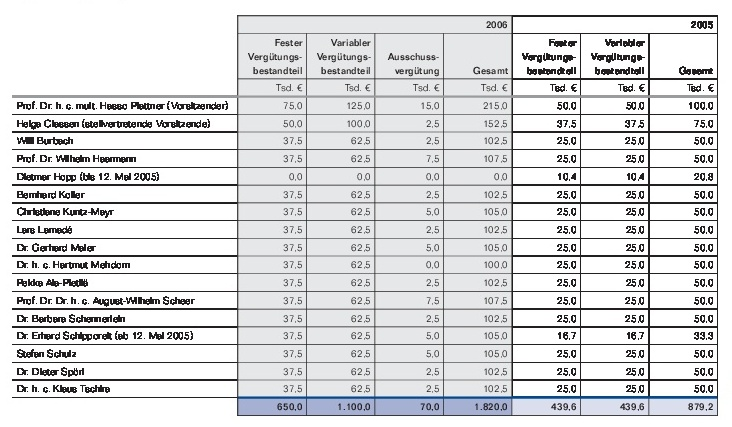table: (0, 0, 732, 427)
